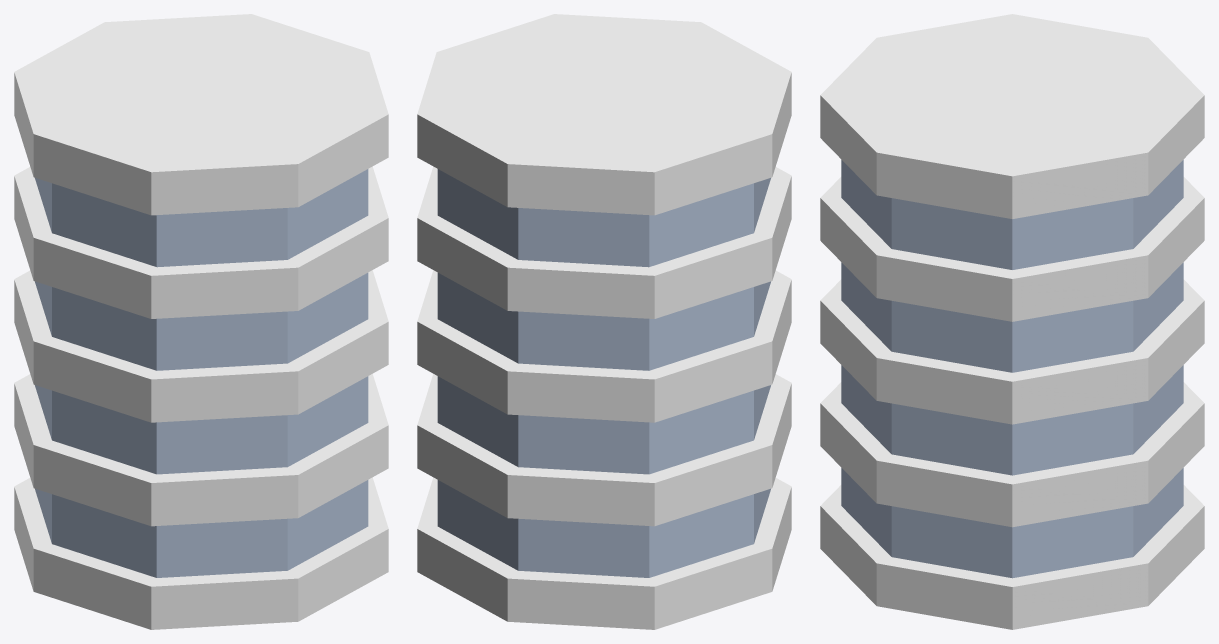
File: Hochhaus_Zylinder_klein.fbx
3 views of the same model, side by side, from view 1: azimuth 30°, elevation 25°; view 2: azimuth 150°, elevation 25°; view 3: azimuth 270°, elevation 25° (orthographic).
Visible parts, largest first — view 1: Haus_Cylinder_klein; view 2: Haus_Cylinder_klein; view 3: Haus_Cylinder_klein.
Boxes of the visible parts, x1,y1,x2,y2 form: Haus_Cylinder_klein: (14,14,388,629); Haus_Cylinder_klein: (417,14,791,629); Haus_Cylinder_klein: (820,14,1204,629).
Size of the model in its own units: 1656 by 2158 by 1656.
